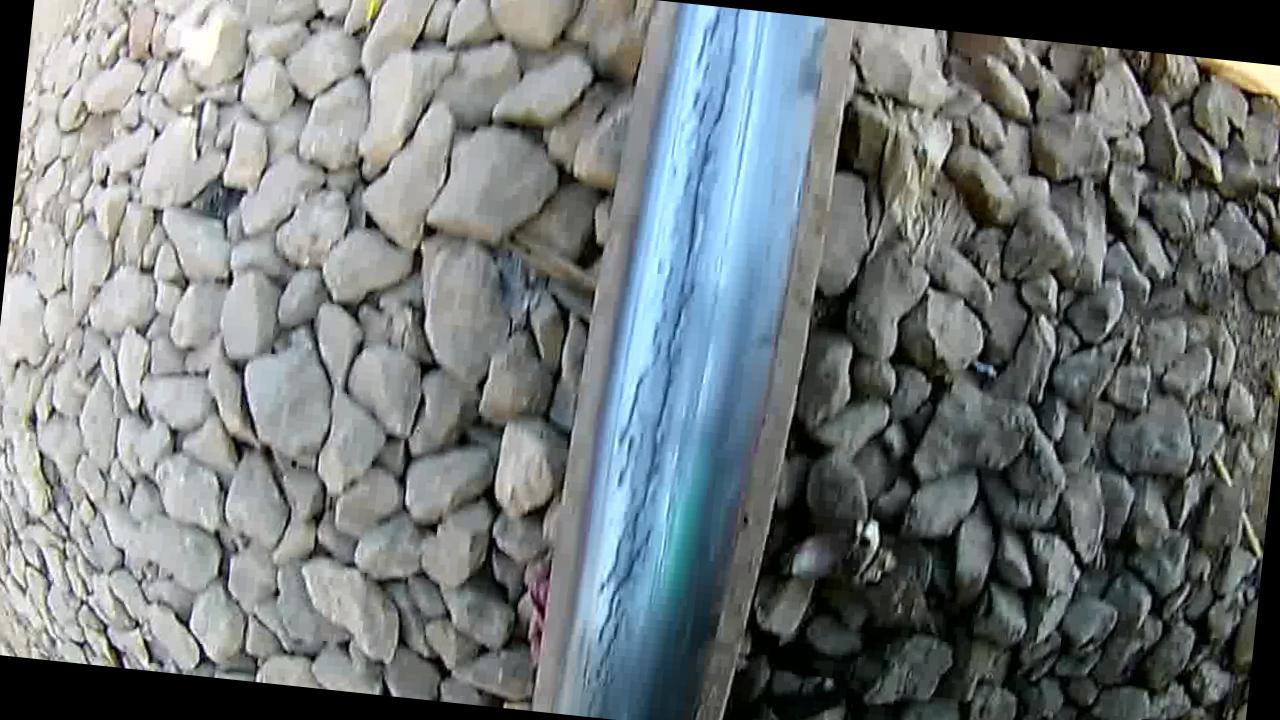normal_track: (575, 7, 767, 720)
